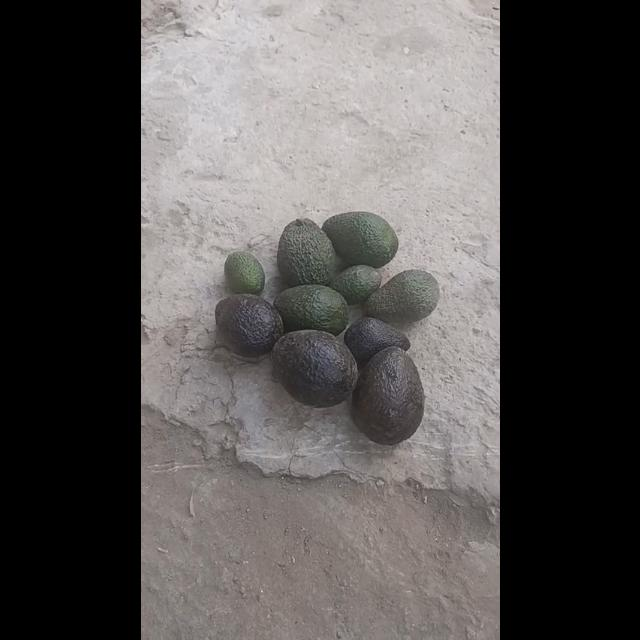Primera: (270, 328, 358, 406), (351, 348, 424, 442), (320, 210, 398, 268), (213, 294, 283, 356), (274, 217, 336, 287)
Segunda: (366, 268, 438, 324), (272, 283, 346, 335)
Tercera: (342, 316, 410, 369), (327, 264, 383, 306), (223, 251, 264, 295)
